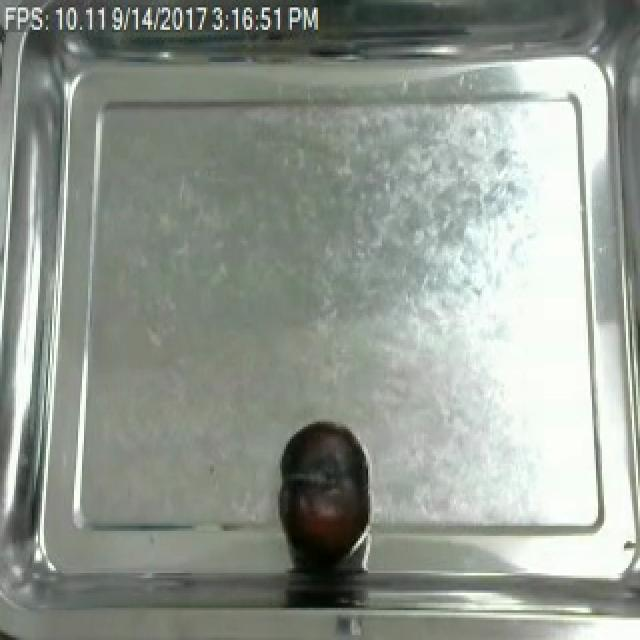Fruit: (276, 417, 372, 553)
